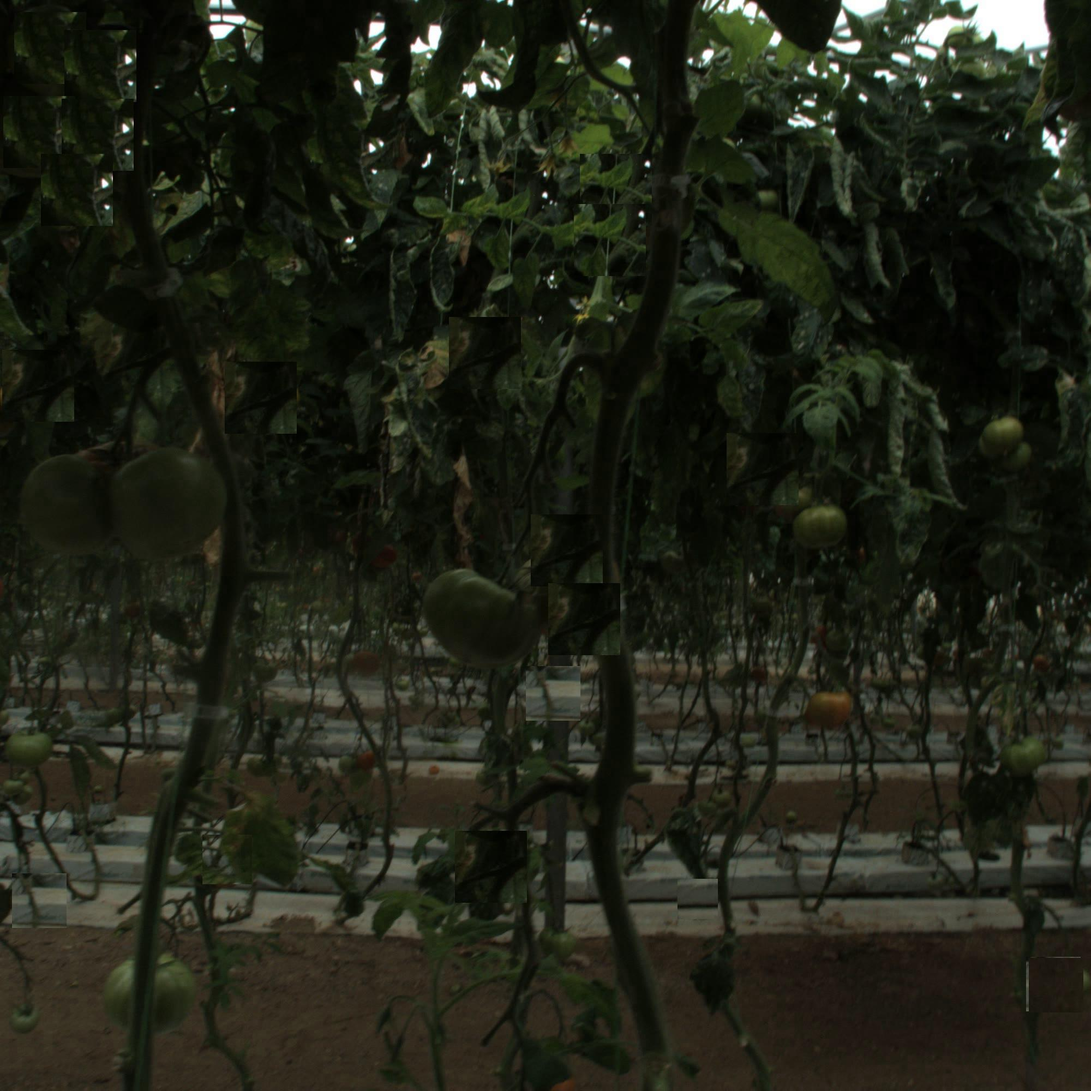semi-ripe: (812, 684, 856, 729)
unripe: (433, 557, 545, 669), (117, 446, 226, 555), (17, 456, 119, 559), (113, 946, 206, 1039), (794, 499, 848, 553), (5, 722, 57, 775), (1004, 731, 1048, 776), (984, 418, 1023, 457)
